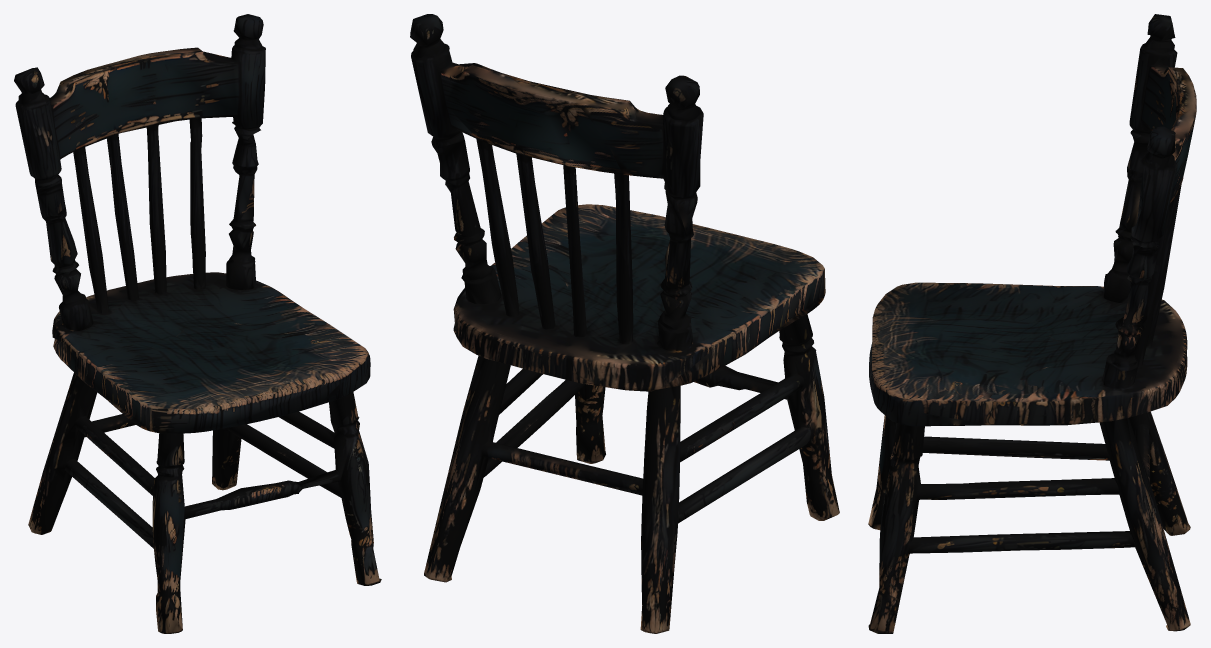
File: lhi_keeper_chair.glb
3 views of the same model, side by side, from view 1: azimuth 30°, elevation 25°; view 2: azimuth 150°, elevation 25°; view 3: azimuth 270°, elevation 25° (orthographic). The views are drawn at different scales.
Visible parts, largest first — view 1: material; view 2: material; view 3: material.
Boxes of the visible parts, left/top/right/bottom form: material: left=14, top=14, right=381, bottom=633; material: left=410, top=14, right=839, bottom=633; material: left=868, top=14, right=1196, bottom=633.
Size of the model in its own units: 0.5306 by 0.9723 by 0.5703.
Materials: 1 (1 with a texture image).
